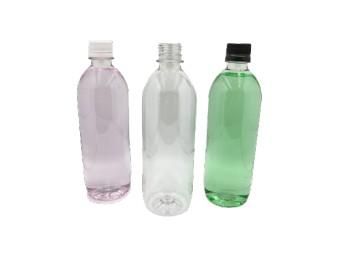bottle: (220, 43, 245, 208), (158, 43, 180, 216), (93, 41, 116, 201)
